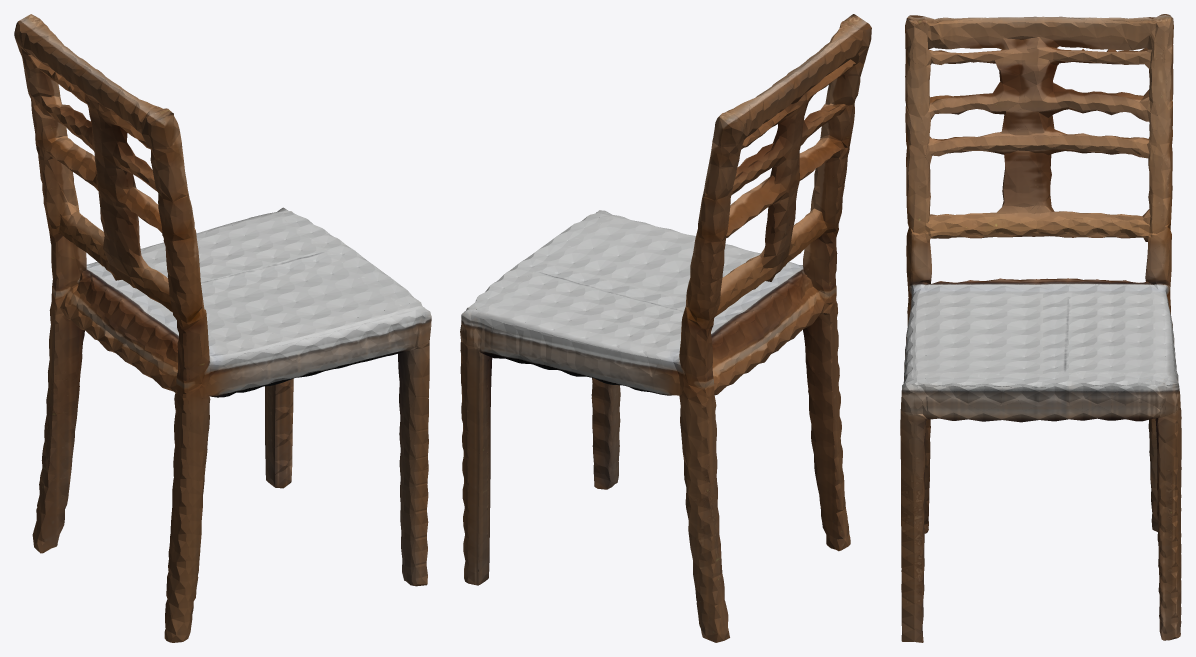
Rendered from elem_94_131_206_213_4_3.obj.
3 renders of one model, left to right at view 1: azimuth 30°, elevation 25°; view 2: azimuth 150°, elevation 25°; view 3: azimuth 270°, elevation 25°, orthographic. The views are drawn at different scales.
Size of the model in its own units: 0.3979 by 0.7101 by 0.3559.
1 material, 1 textured.
